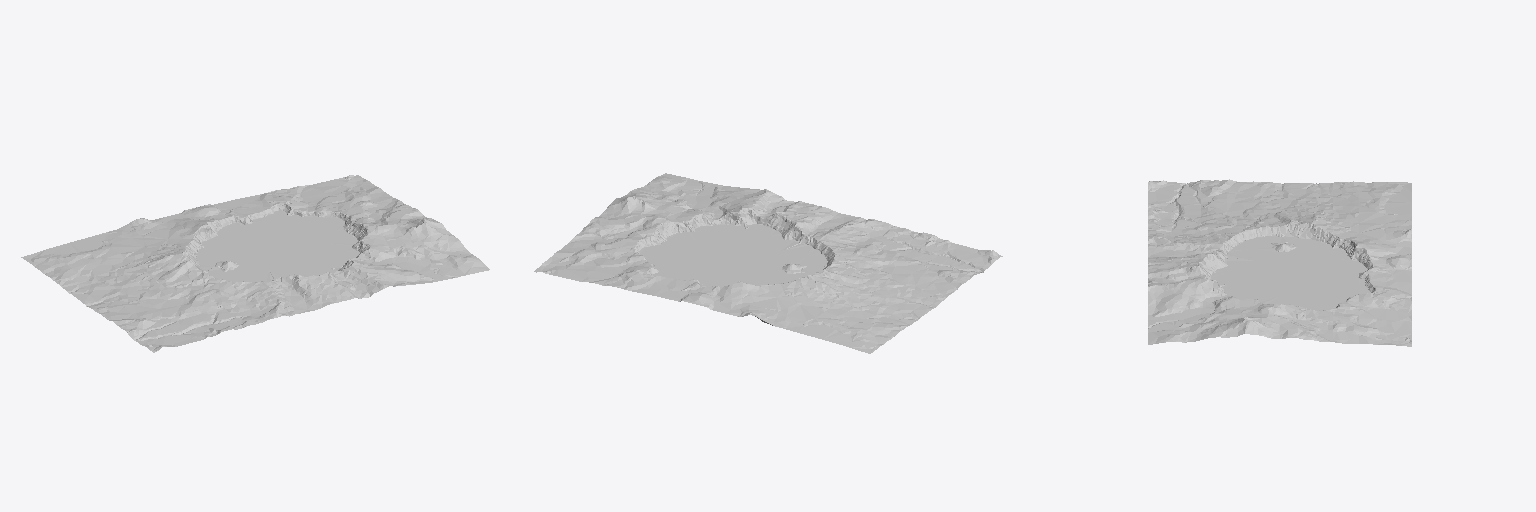
File: cratera.obj
3 views of the same model, side by side, from view 1: azimuth 30°, elevation 25°; view 2: azimuth 150°, elevation 25°; view 3: azimuth 270°, elevation 25° (orthographic).
Size of the model in its own units: 19.92 by 1.17 by 13.55.